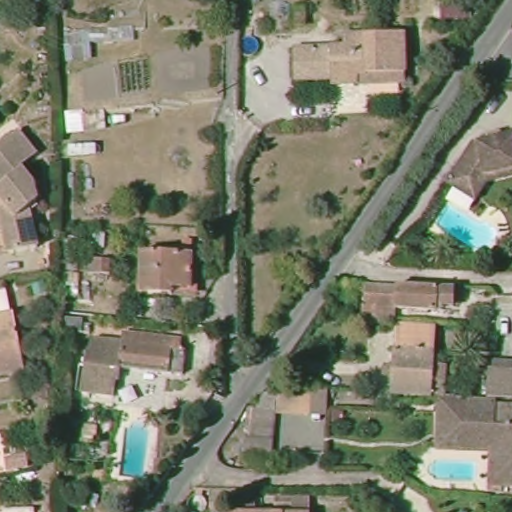pool: (428, 200, 504, 259), (422, 452, 487, 489), (117, 418, 152, 480), (237, 33, 262, 65)
